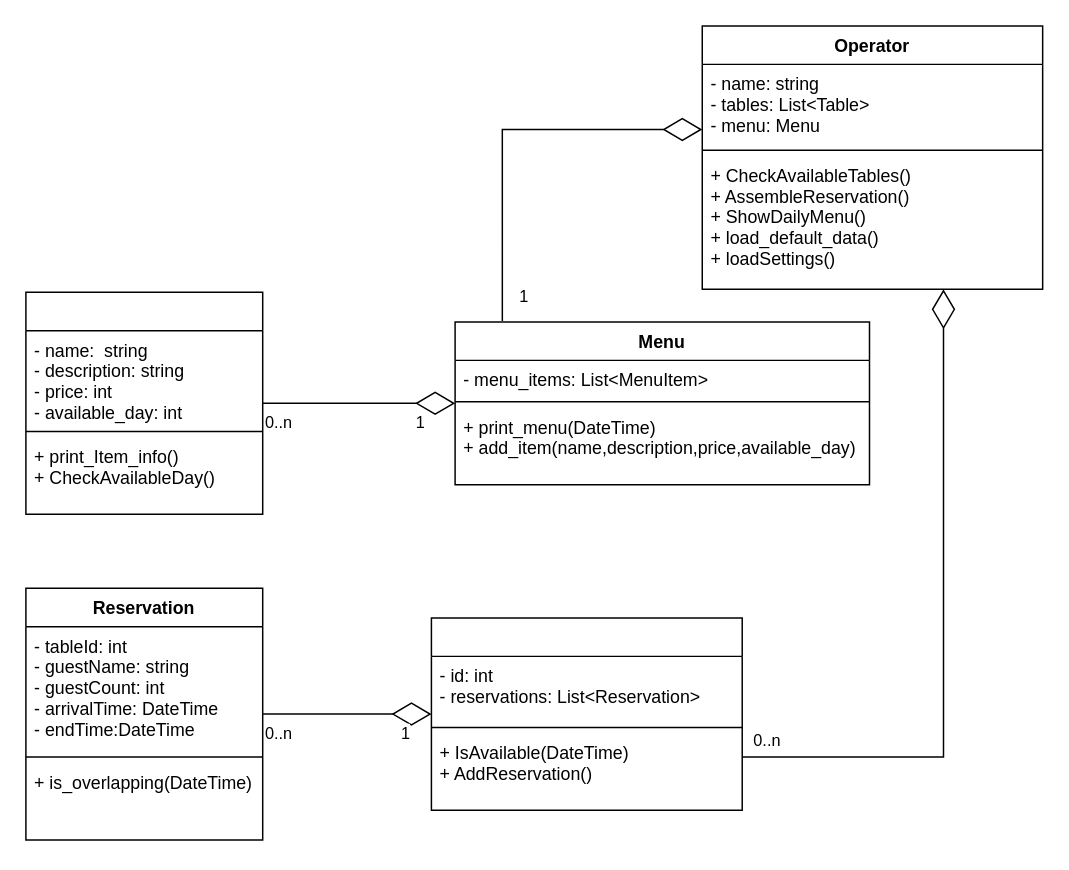
Some shapes in this 1069 by 870 pixel diagram are drawn without their labels. Each missing label, with the box of its shape:
Menu_item: (24, 291, 263, 514)
Table: (430, 616, 742, 810)
